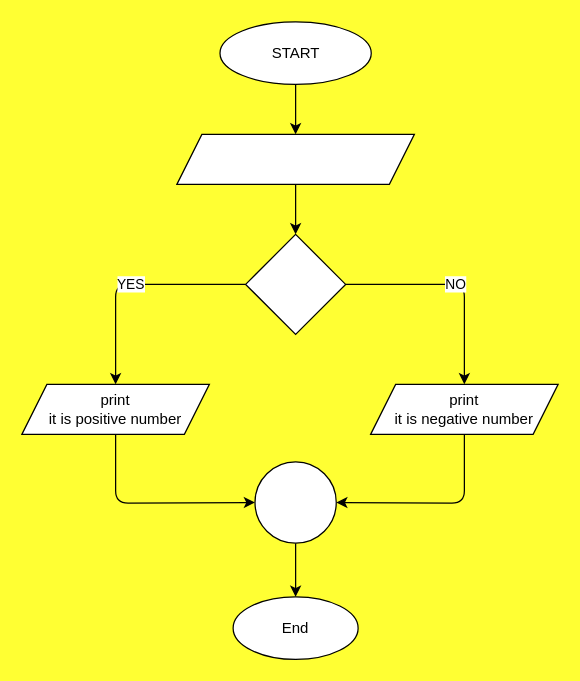
Image size: 580x681. Some labels were removed from this diagram. Here are the shapes that lost their labels. From the top down, the box of each, then its label:
(176, 133, 414, 184): num=input a number
(244, 233, 346, 334): if(num>0)
